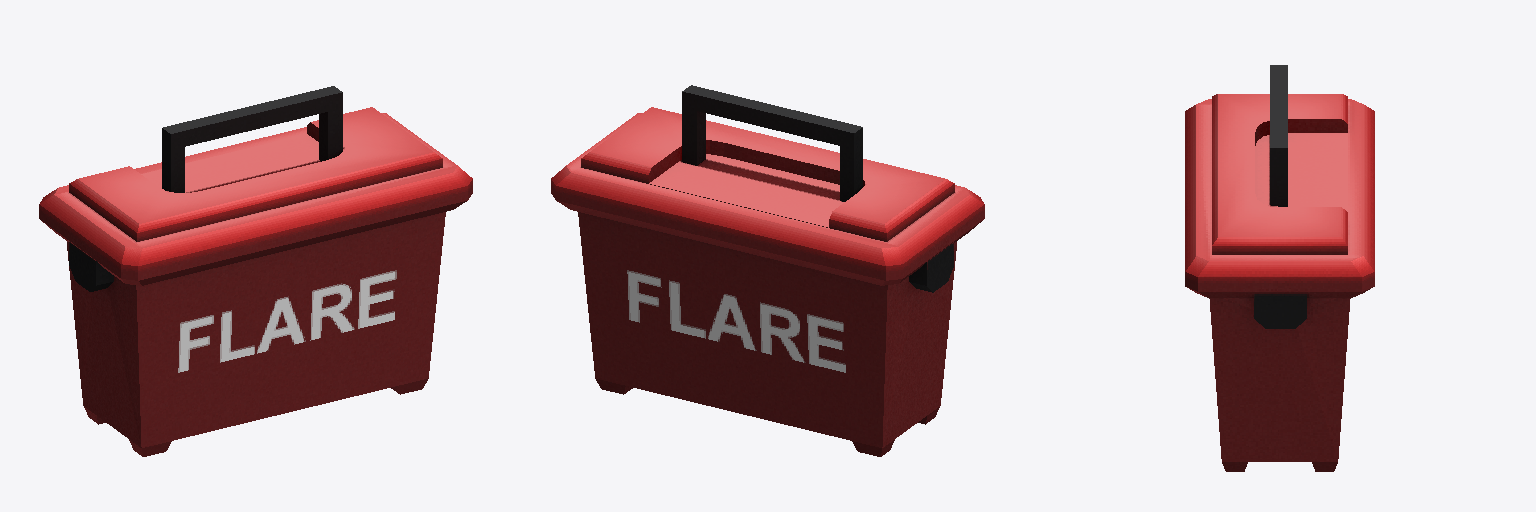
3 views of the same model, side by side, from view 1: azimuth 30°, elevation 25°; view 2: azimuth 150°, elevation 25°; view 3: azimuth 270°, elevation 25° (orthographic).
Parts seen in each view (by area): view 1: flare_box; view 2: flare_box; view 3: flare_box.
Part boxes in pixels (left/top/right/bottom): flare_box: left=39, top=86, right=472, bottom=456; flare_box: left=551, top=85, right=984, bottom=456; flare_box: left=1185, top=65, right=1374, bottom=471.
Size of the model in its own units: 1.24 by 0.9974 by 0.58.
1 materials, 1 textured.